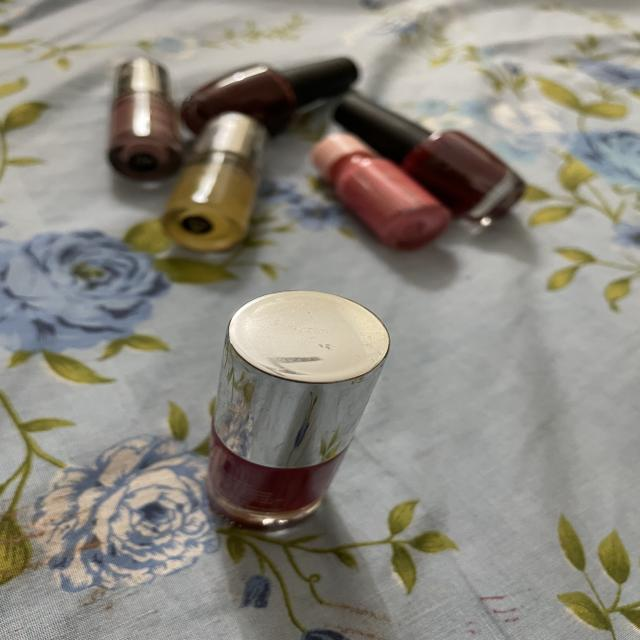nail polish: (171, 283, 411, 557), (150, 112, 278, 260), (181, 43, 371, 122), (88, 45, 181, 185)
